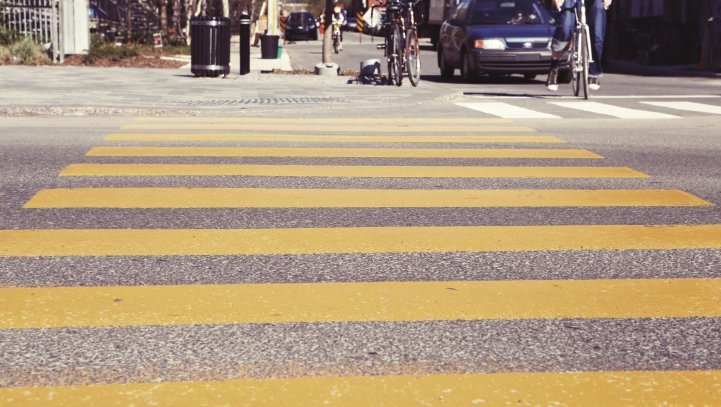Crosswalk: (10, 104, 721, 407)
